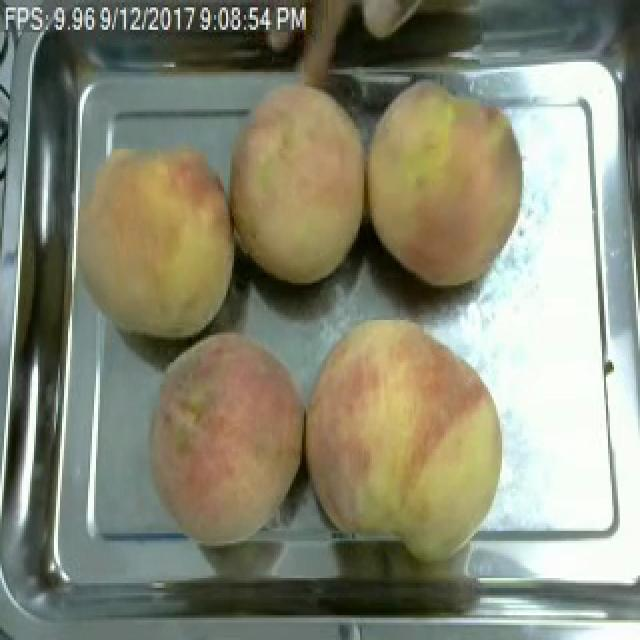Fruit: (296, 305, 514, 566), (140, 320, 314, 553), (64, 129, 244, 350), (366, 70, 536, 298), (224, 70, 370, 295)
